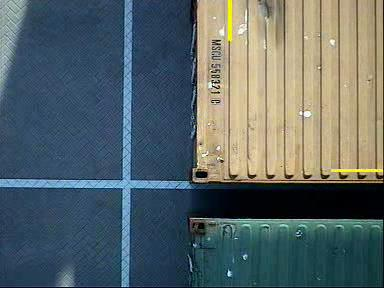groundmarker_2: (105, 178, 161, 217), (109, 5, 164, 43)
